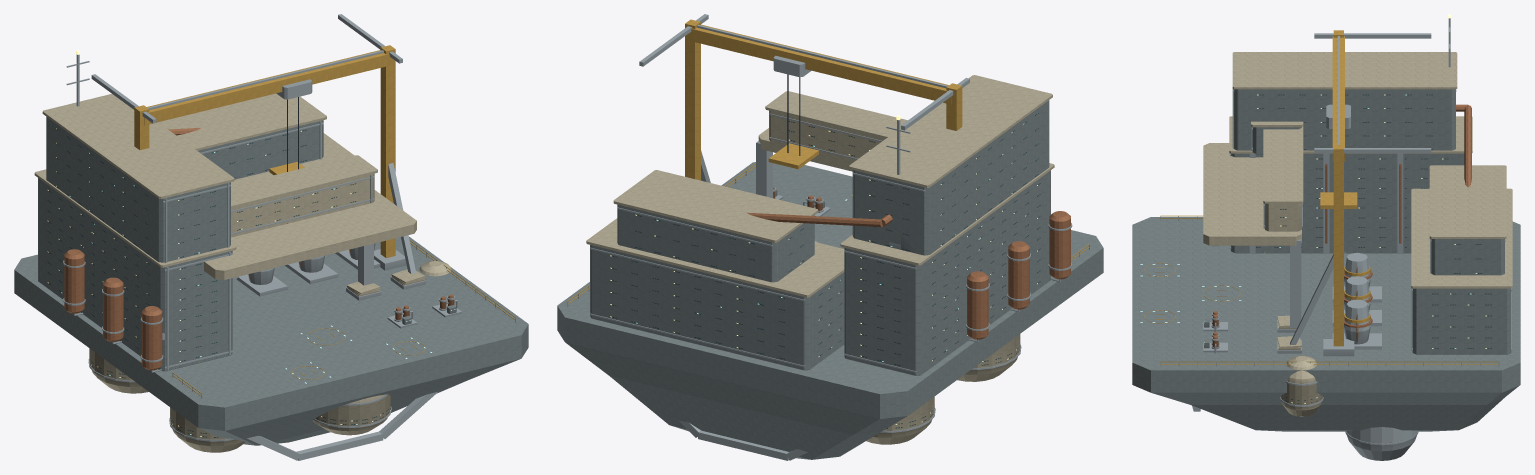
The model's file is cairn.glb.
3 renders of one model, left to right at view 1: azimuth 30°, elevation 25°; view 2: azimuth 150°, elevation 25°; view 3: azimuth 270°, elevation 25°, orthographic. The views are drawn at different scales.
Parts seen in each view (by area): view 1: cairn / hull, cairn / armor, cairn / metal, cairn / ochre, cairn / copper, cairn / glass; view 2: cairn / hull, cairn / armor, cairn / metal, cairn / ochre, cairn / copper, cairn / glass; view 3: cairn / hull, cairn / armor, cairn / metal, cairn / ochre, cairn / copper, cairn / glass.
Boxes of the visible parts, x1,y1,x2,y2 form: cairn / hull: (14,116,528,445); cairn / armor: (34,93,451,452); cairn / metal: (63,14,515,460); cairn / ochre: (134,45,515,396); cairn / copper: (64,128,454,370); cairn / glass: (47,129,390,437); cairn / hull: (557,100,1103,459); cairn / armor: (586,75,1054,444); cairn / metal: (567,14,1089,460); cairn / ochre: (568,19,1089,303); cairn / copper: (747,186,1070,339); cairn / glass: (612,113,1040,428); cairn / hull: (1132,89,1520,431); cairn / armor: (1203,52,1512,416); cairn / metal: (1160,18,1511,460); cairn / ochre: (1144,30,1498,364); cairn / copper: (1212,104,1471,347); cairn / glass: (1256,94,1491,403).
Size of the model in its own units: 142 by 145 by 144.
Materials: 9 (4 with a texture image).
